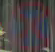No Stopping: (4, 3, 51, 51)
